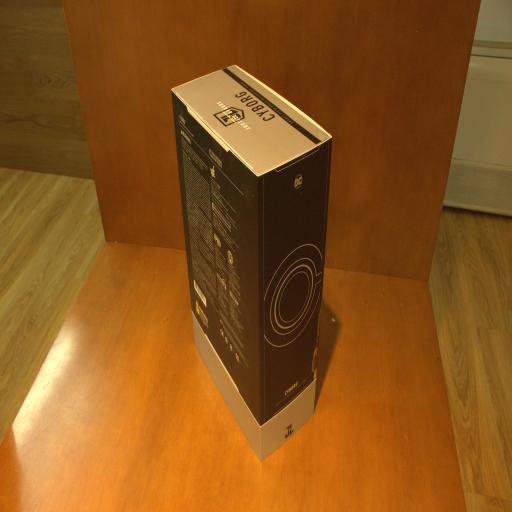Cyborg: (172, 64, 333, 462)
